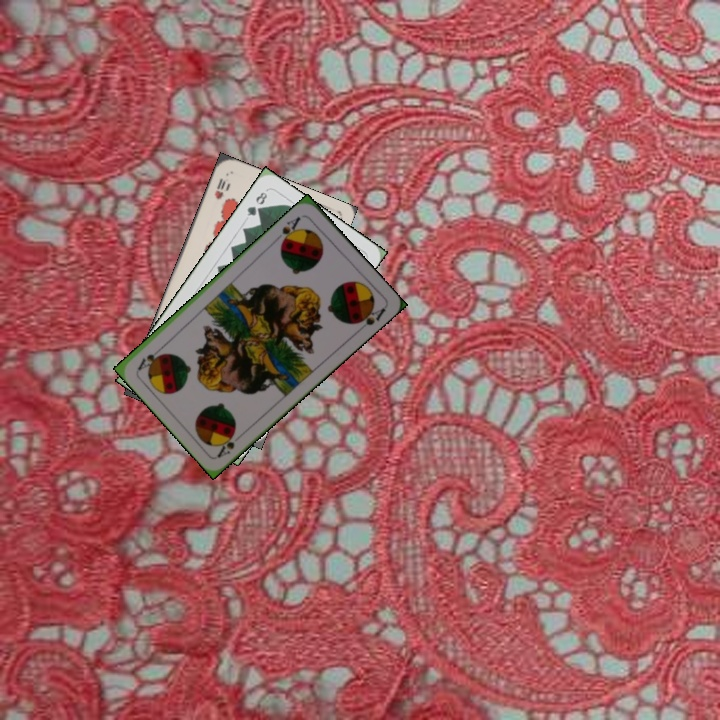G8: (243, 188, 270, 219)
H10: (210, 174, 232, 202)
SA: (272, 212, 303, 248), (213, 426, 239, 460)
